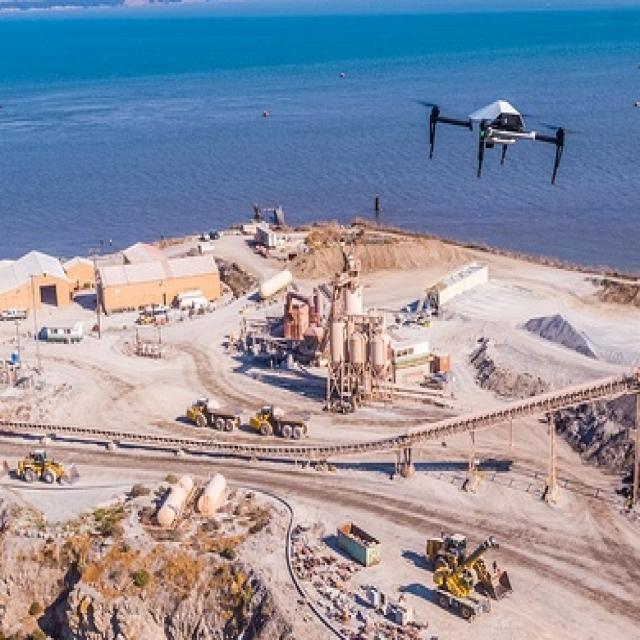drone: (406, 84, 580, 185)
